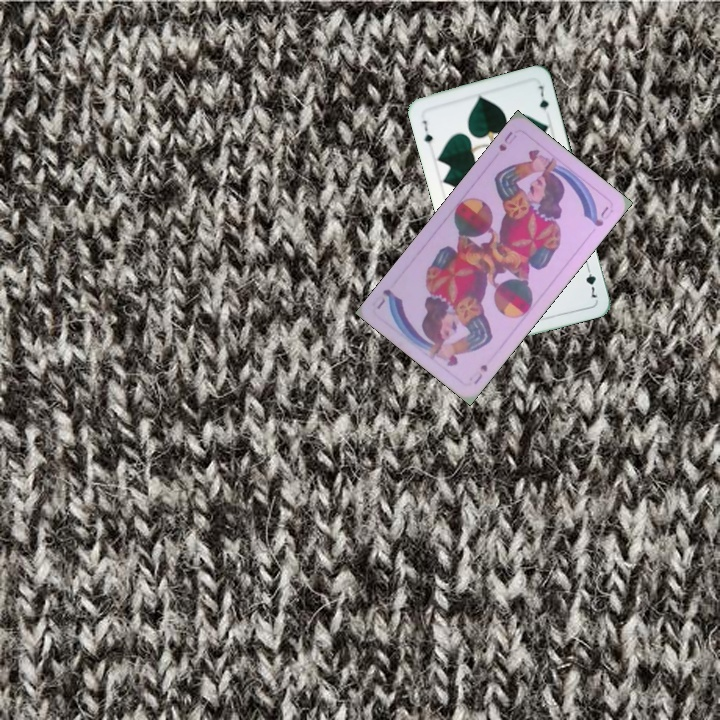G7: (582, 261, 600, 300), (418, 116, 435, 146)
SU: (466, 360, 490, 387), (495, 127, 516, 154)
